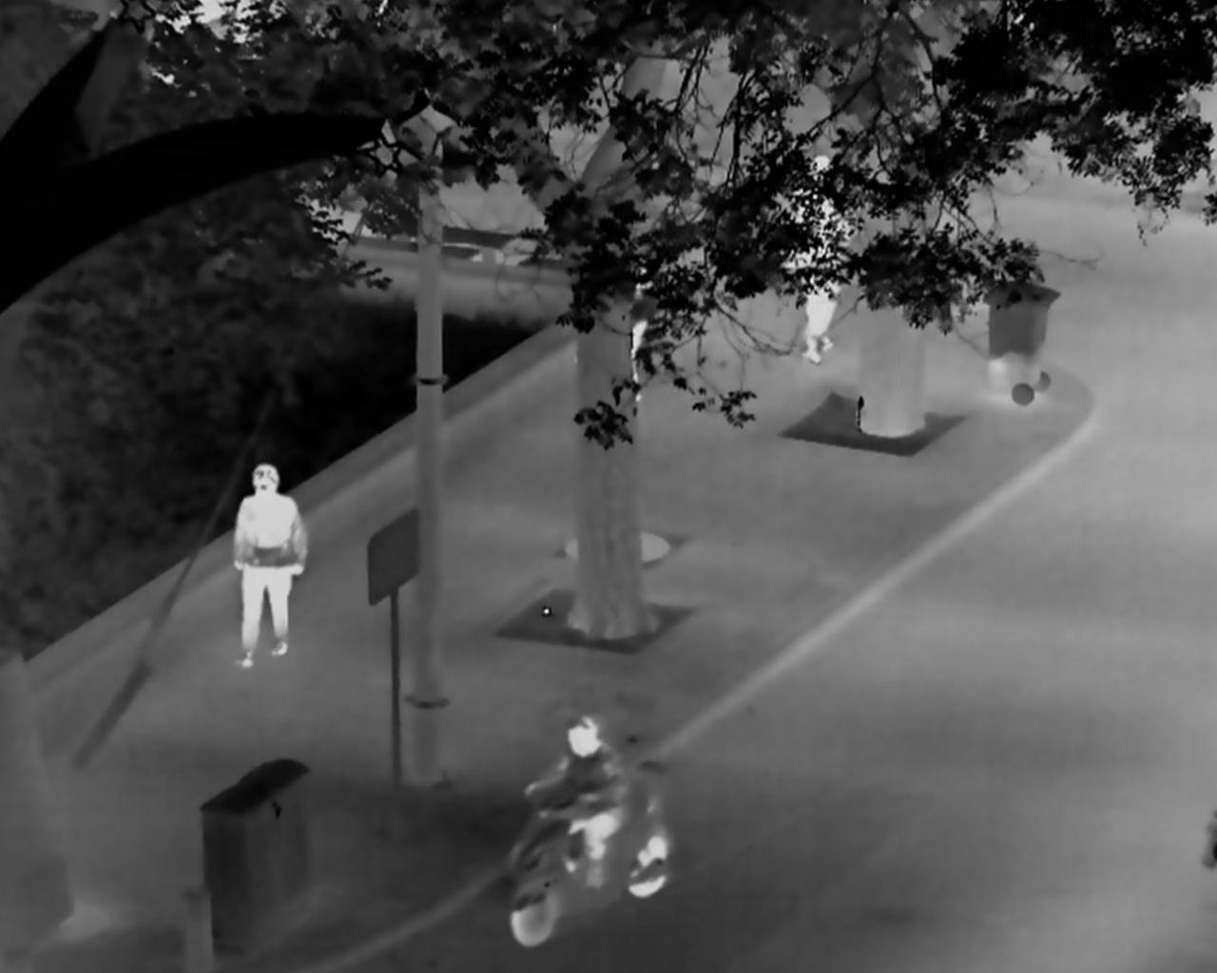person: (523, 714, 630, 887), (233, 461, 309, 670), (789, 155, 848, 363), (630, 257, 650, 403)
